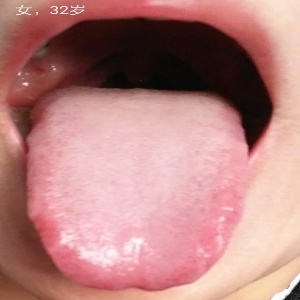st: (33, 88, 250, 292)
